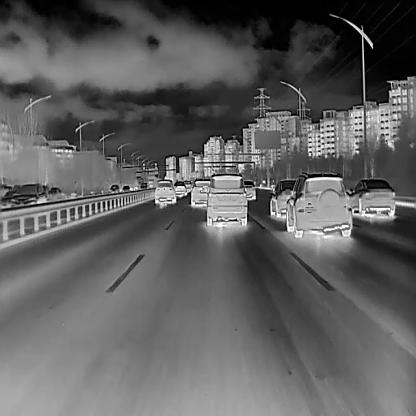car: (284, 171, 351, 237), (204, 171, 247, 226), (347, 176, 395, 216), (269, 177, 300, 218), (9, 182, 48, 209), (152, 177, 176, 205), (190, 177, 211, 207), (241, 178, 256, 201), (172, 179, 187, 197), (47, 186, 62, 199), (120, 184, 132, 194), (109, 183, 120, 193), (184, 178, 192, 191), (139, 182, 148, 190)
truck: (146, 176, 156, 186)
